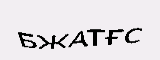А: (68, 29, 88, 48)
Б: (16, 29, 35, 47)
Ж: (36, 30, 68, 49)
С: (123, 23, 143, 45)
Т: (87, 27, 105, 48)
Ғ: (105, 27, 122, 46)
